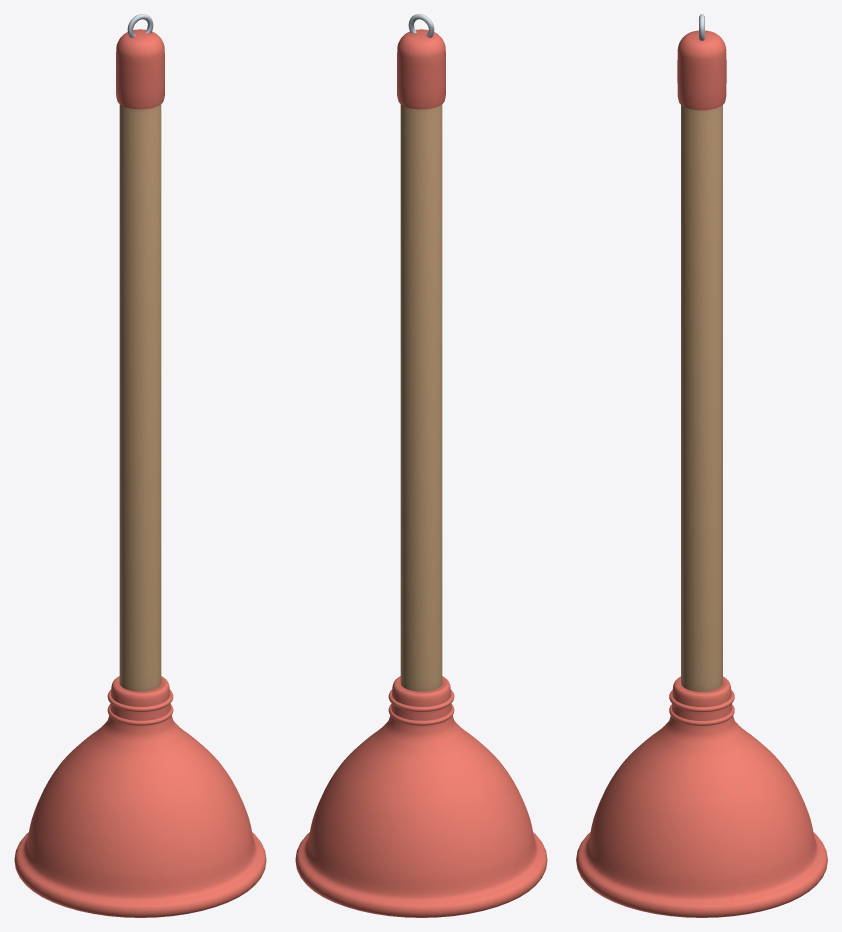
File: desatascador.glb
3 renders of one model, left to right at view 1: azimuth 30°, elevation 25°; view 2: azimuth 150°, elevation 25°; view 3: azimuth 270°, elevation 25°, orthographic.
Visible parts, largest first — view 1: plunger_body; view 2: plunger_body; view 3: plunger_body.
Boxes of the visible parts, x1,y1,x2,y2 form: plunger_body: (14, 14, 266, 917); plunger_body: (295, 14, 547, 917); plunger_body: (576, 14, 827, 917).
Size of the model in its own units: 0.1504 by 0.5621 by 0.1504.
Materials: 1 (1 with a texture image).
